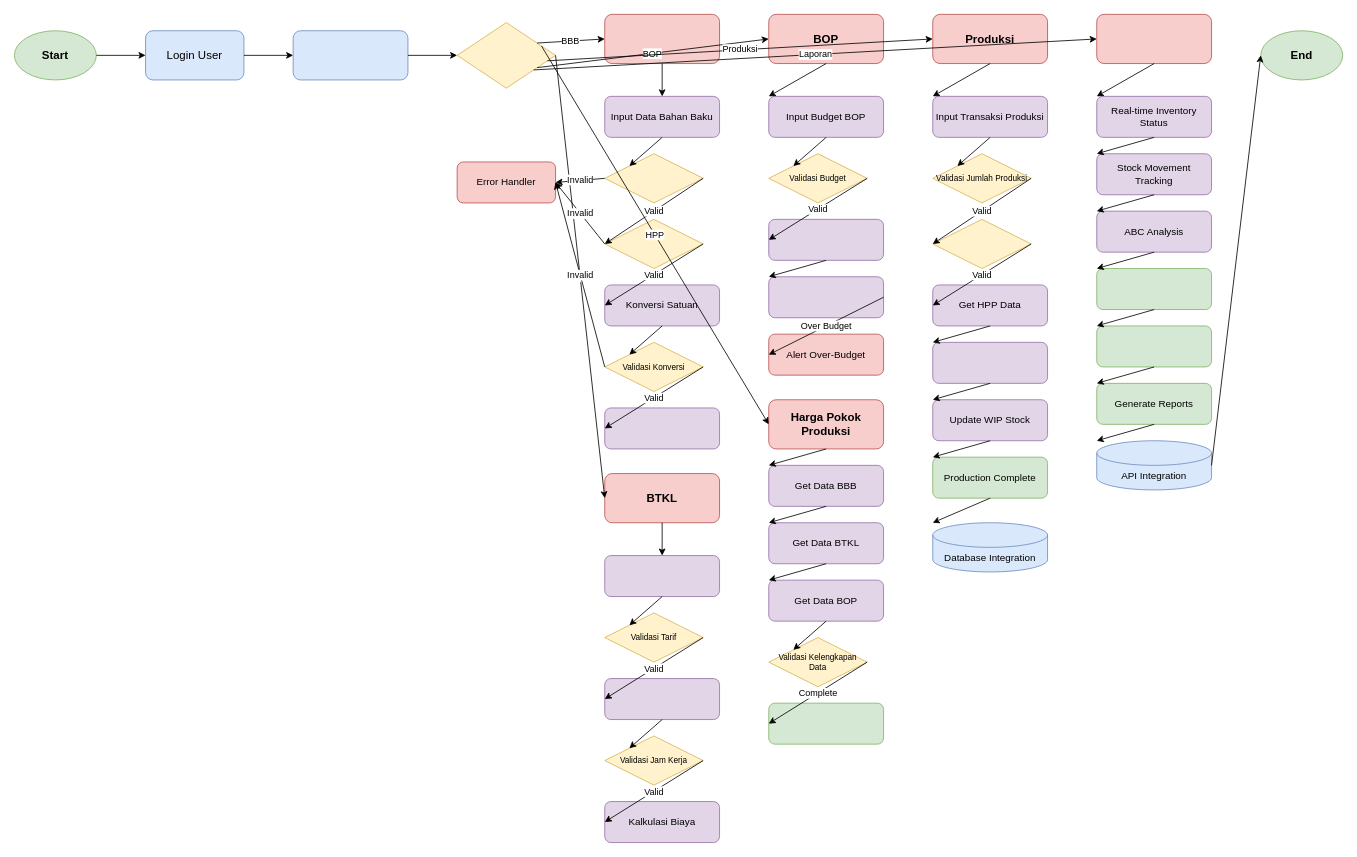
Some shapes in this 1357 by 857 pixel diagram are drawn without their labels. The shapes that lost their labels are listed below. From the top down, each one's centre as x and y in pixels, then its label:
At pixel 350 55: "Dashboard SIMCOST".
At pixel 506 55: "Pilih Modul".
At pixel 662 39: "Biaya Bahan Baku".
At pixel 1154 39: "Laporan Stok".
At pixel 653 178: "Validasi Harga Positif".
At pixel 653 244: "Validasi Range Harga".
At pixel 826 239: "Input Aktual BOP".
At pixel 981 244: "Validasi Produk".
At pixel 826 297: "Tracking Aktual vs Budget".
At pixel 1154 289: "Update Finished Goods".
At pixel 990 362: "Calculate Total Cost".
At pixel 1154 346: "Update Laporan Stok".
At pixel 662 428: "Hitung Harga Rata-rata".
At pixel 662 576: "Input Tarif per Jam".
At pixel 662 699: "Input Jam Kerja".
At pixel 826 723: "Calculate HPP = BBB + BTKL + BOP".
